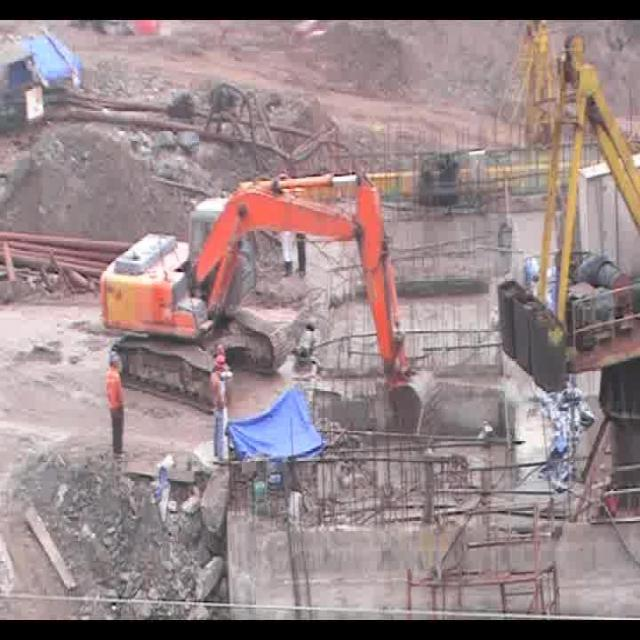excavator: (90, 157, 433, 437)
